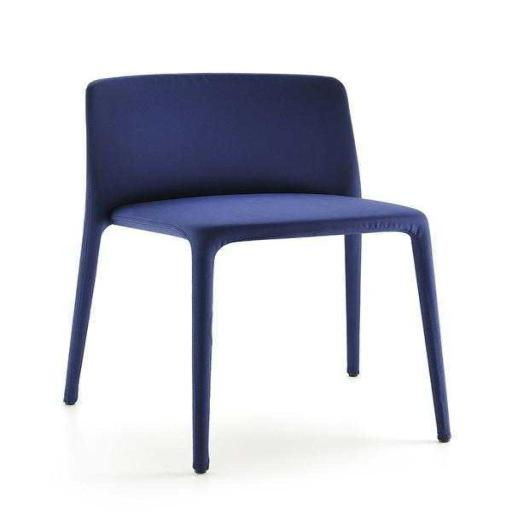chair: (61, 64, 463, 479)
